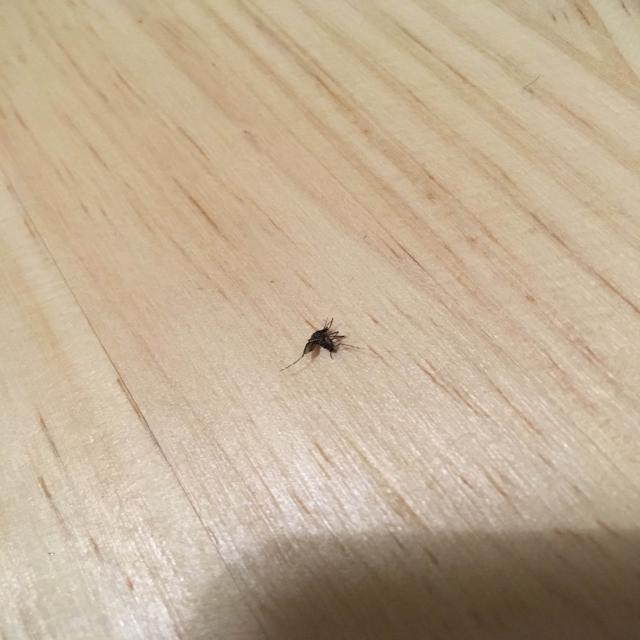albopictus: (279, 313, 364, 375)
